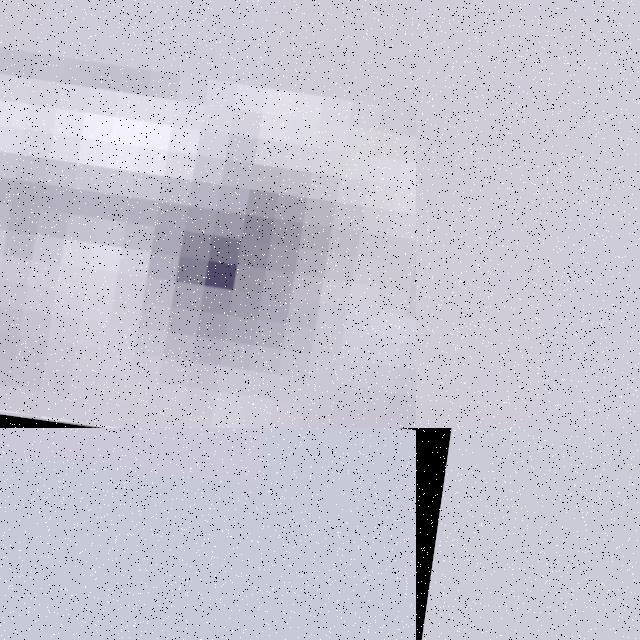drone: (0, 0, 416, 428)
